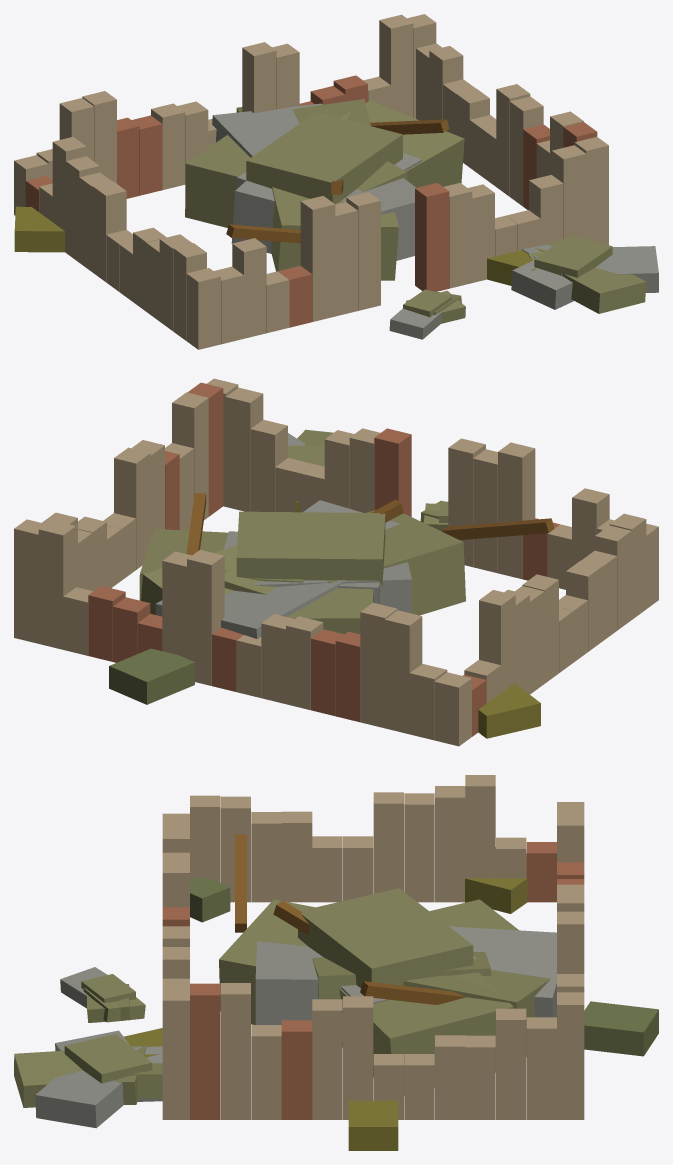
The model's file is SM_CasaRuina_v4_Arrasada_LOD0.fbx.
The picture shows the model from 3 angles, top to bottom: view 1: azimuth 30°, elevation 25°; view 2: azimuth 150°, elevation 25°; view 3: azimuth 270°, elevation 25°; orthographic projection. The views are drawn at different scales.
Parts seen in each view (by area): view 1: SM_casa_ruina_v4_LOD0; view 2: SM_casa_ruina_v4_LOD0; view 3: SM_casa_ruina_v4_LOD0.
Boxes of the visible parts, x1=… form: SM_casa_ruina_v4_LOD0: x1=14, y1=14, x2=658, y2=349; SM_casa_ruina_v4_LOD0: x1=14, y1=378, x2=658, y2=746; SM_casa_ruina_v4_LOD0: x1=14, y1=775, x2=658, y2=1150.
Size of the model in its own units: 11.04 by 2.49 by 10.71.
